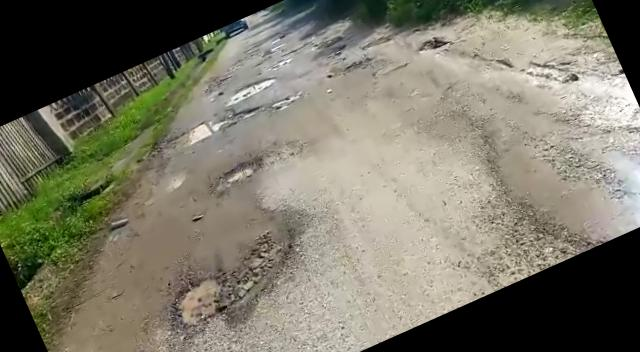pothole: (147, 216, 326, 346), (163, 94, 270, 152), (203, 152, 270, 196), (221, 72, 279, 108), (266, 90, 300, 112)
